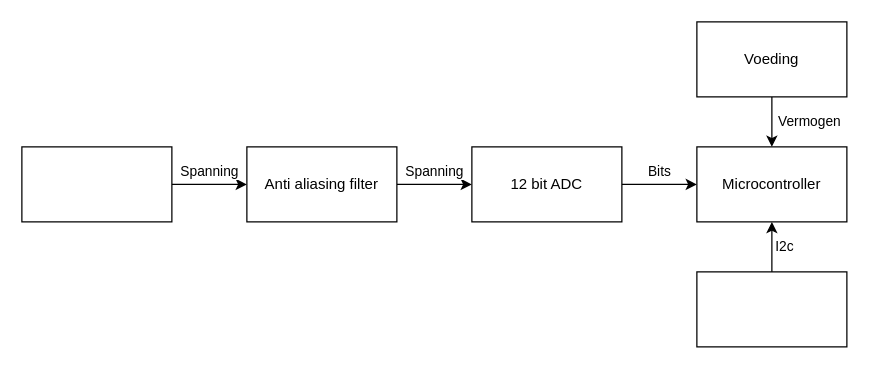
The diagram is 869 pixels wide and 369 high, and some of its shapes have lost their labels. The centre of each missing label's shape, as x and y in pixels:
Luchtvochtigheids senors: the point at 771,309
Temperatuursensor module: the point at 96,184
